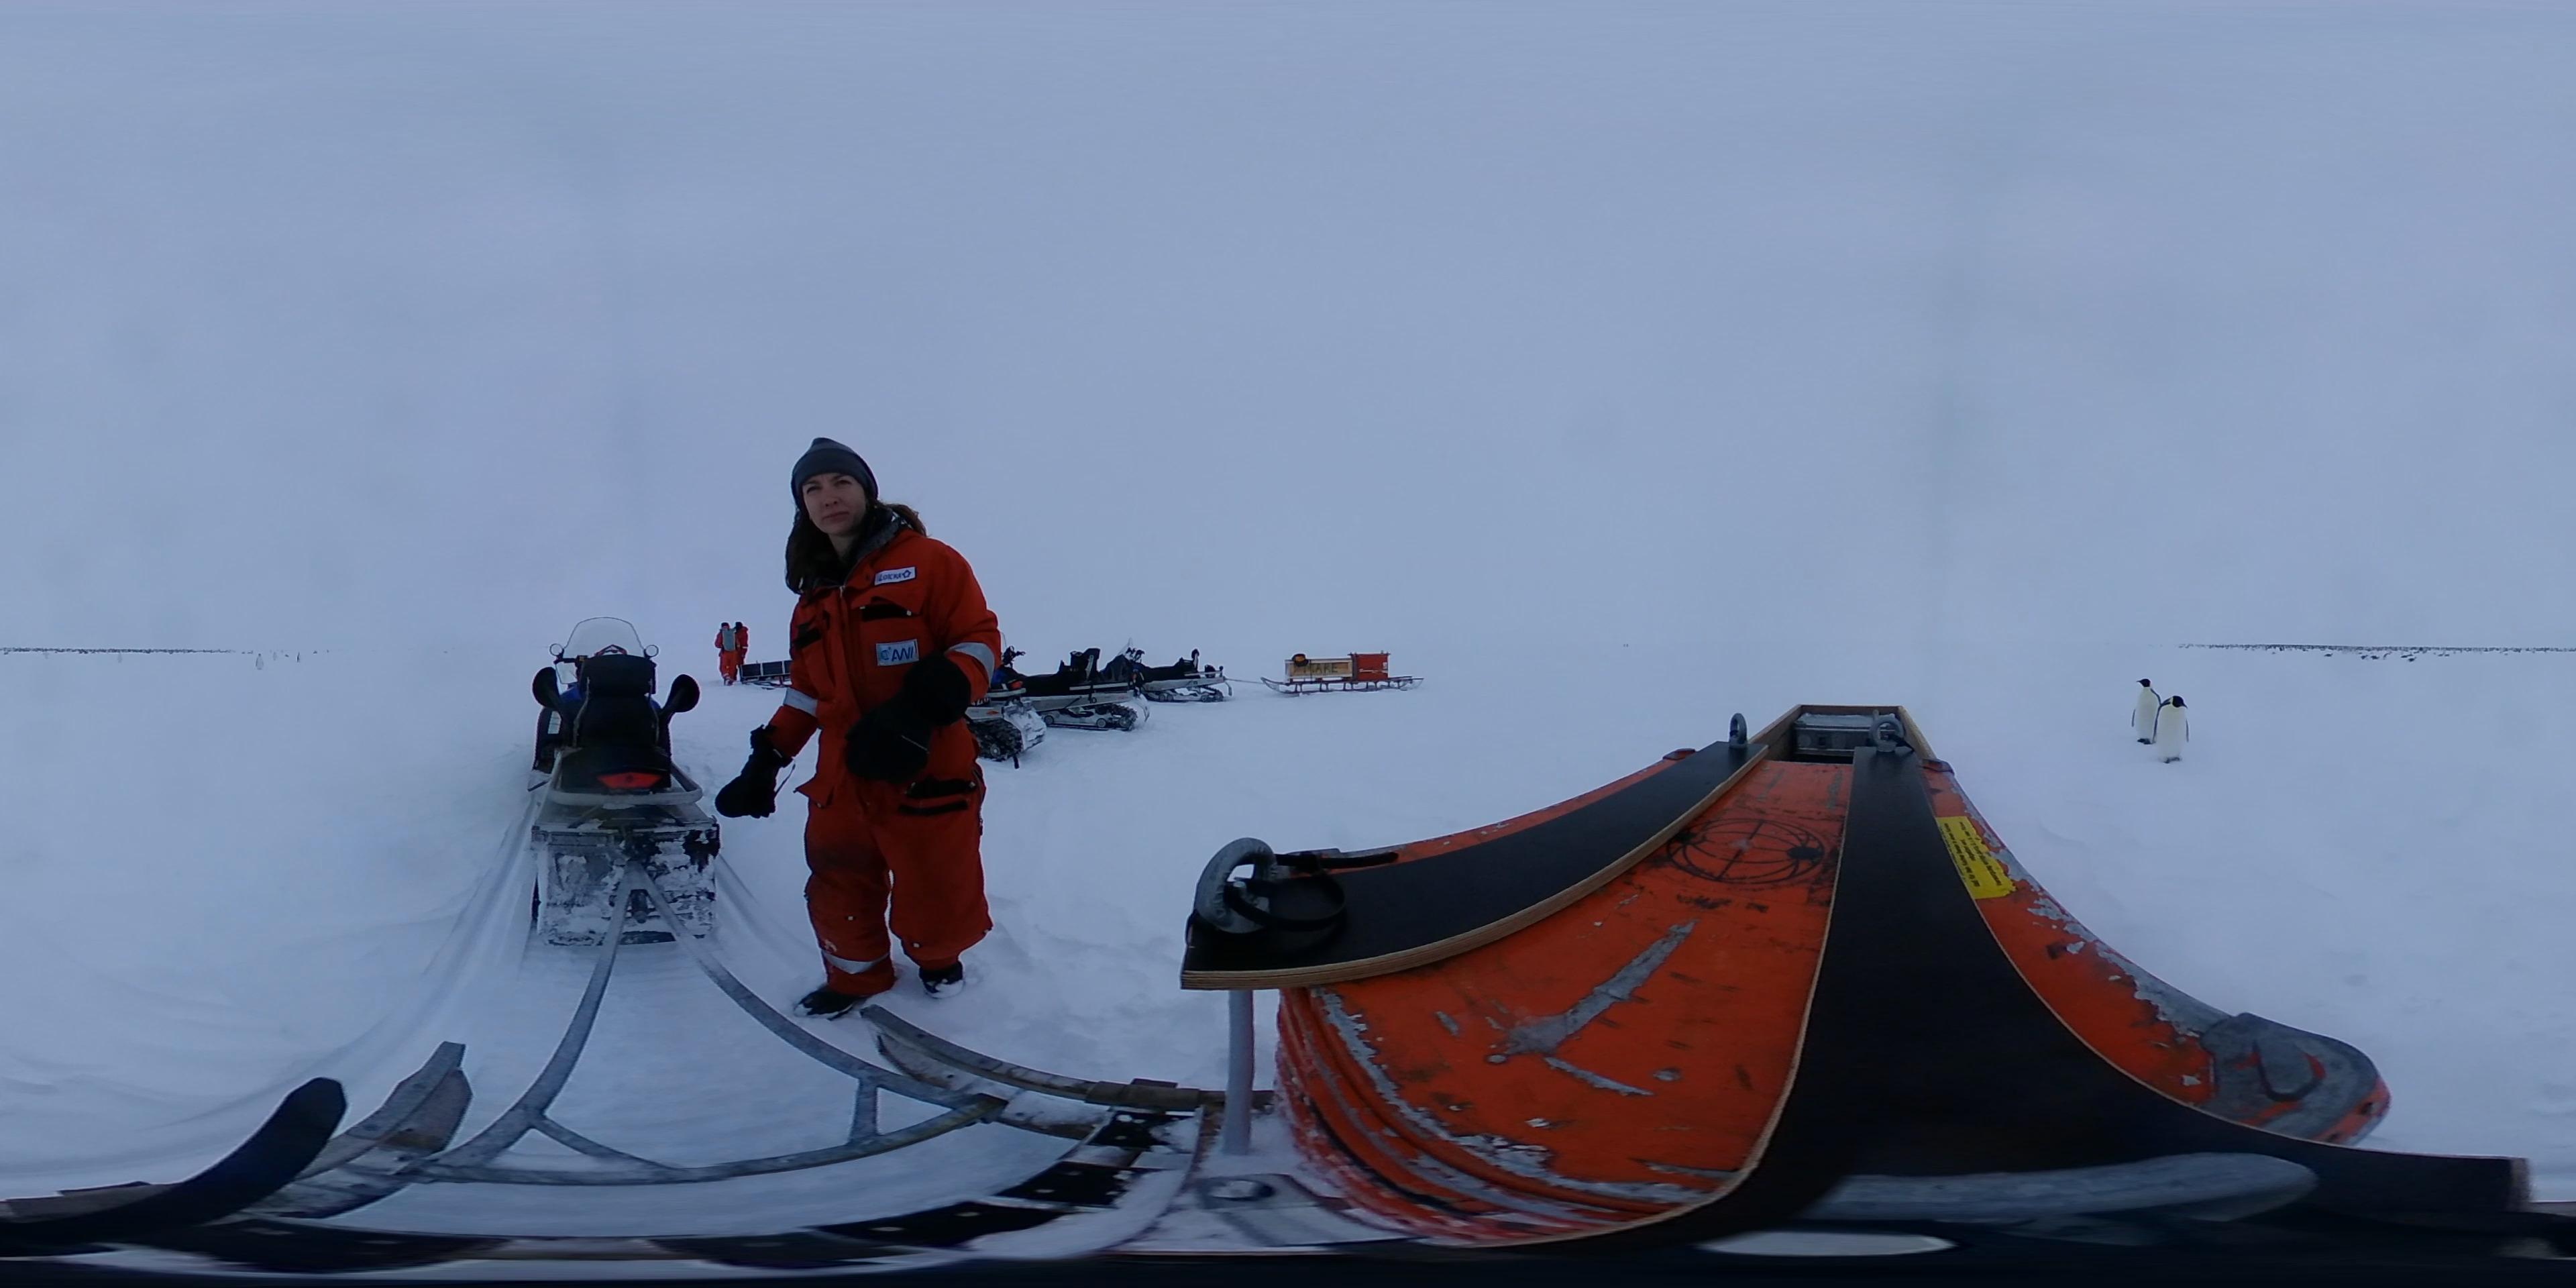adult_standing_penguin: (2121, 667, 2159, 747), (2159, 693, 2188, 770)
researcher: (754, 421, 1025, 1030), (701, 614, 736, 683), (741, 609, 764, 682)
